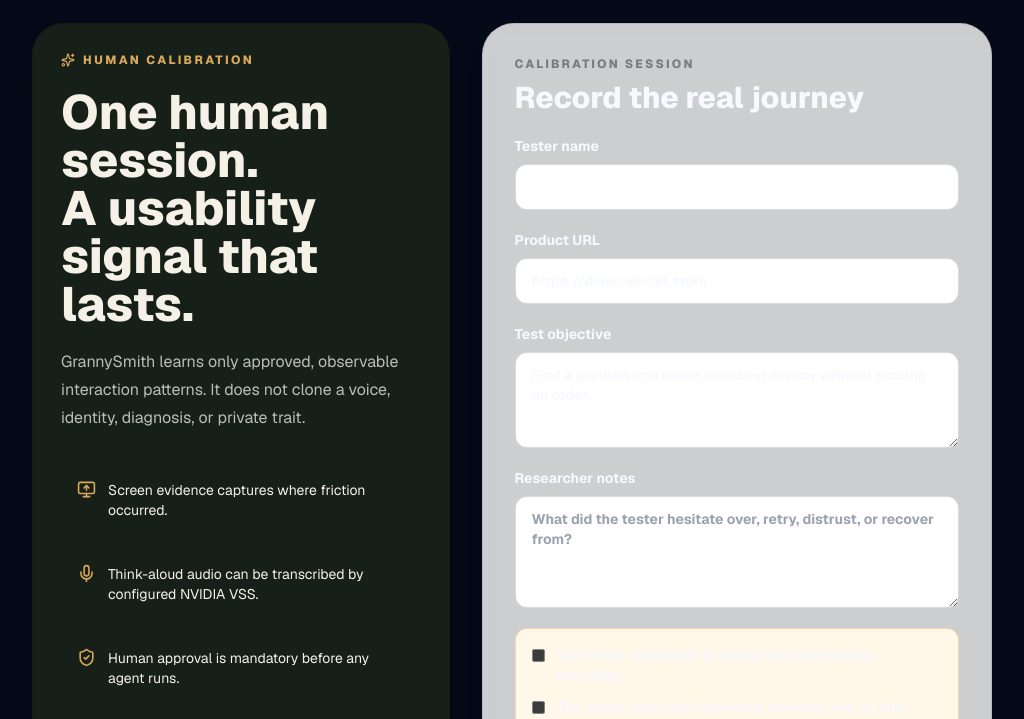
Test case: CalibrationStudio › requires both consent acknowledgements before recording
Click the checkbox labelled "The tester consented to screen and microphone recording." at x=538, y=656, box [532, 649, 545, 662]
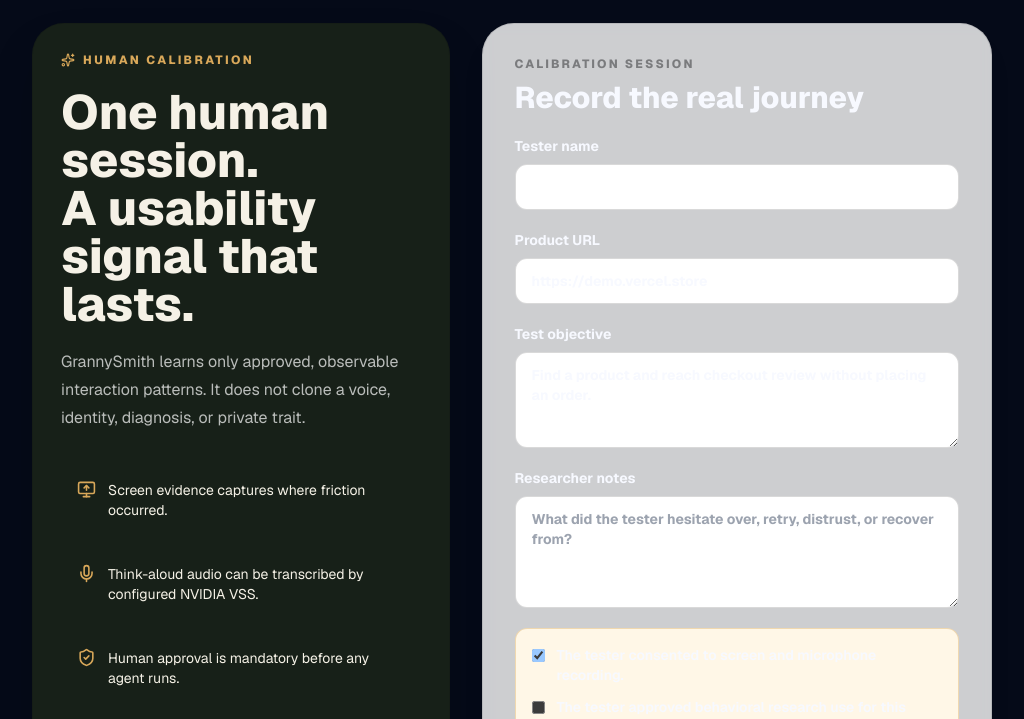
Click the checkbox labelled "behavioral research use" at x=538, y=708, box [532, 701, 545, 714]
(page scrolled)
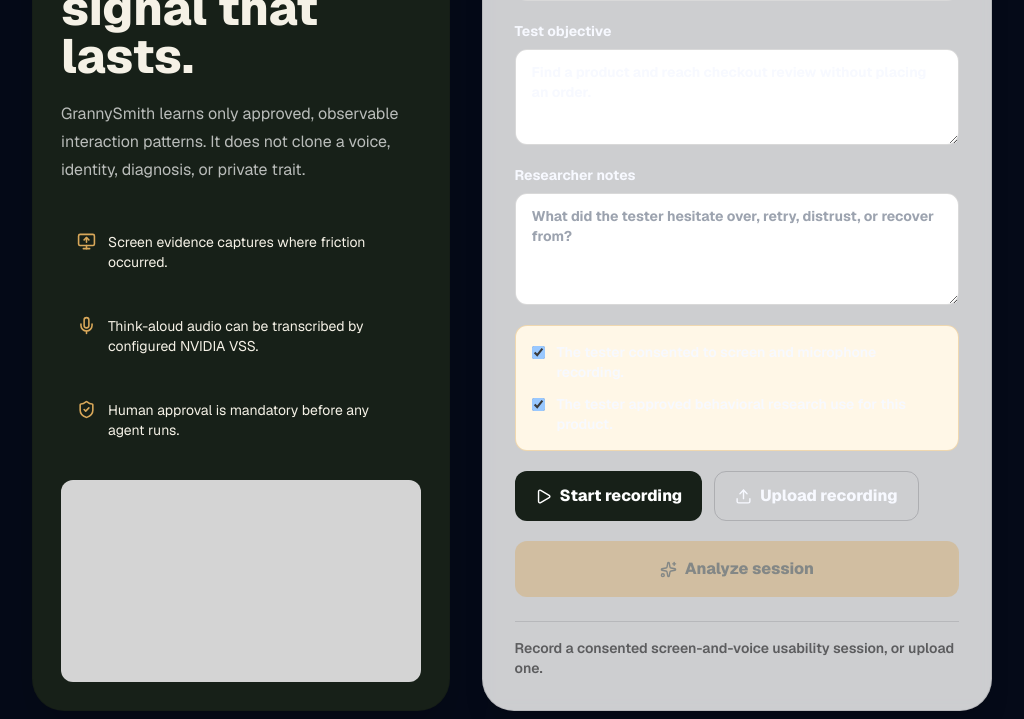
Expected: the button "Start recording" is enabled, [515, 471, 702, 521]
